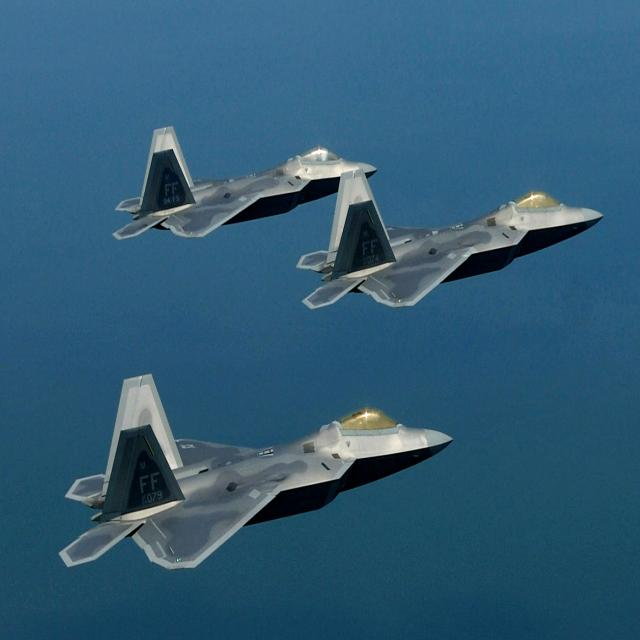F22: (26, 347, 474, 599), (302, 149, 626, 344), (104, 110, 396, 266)
